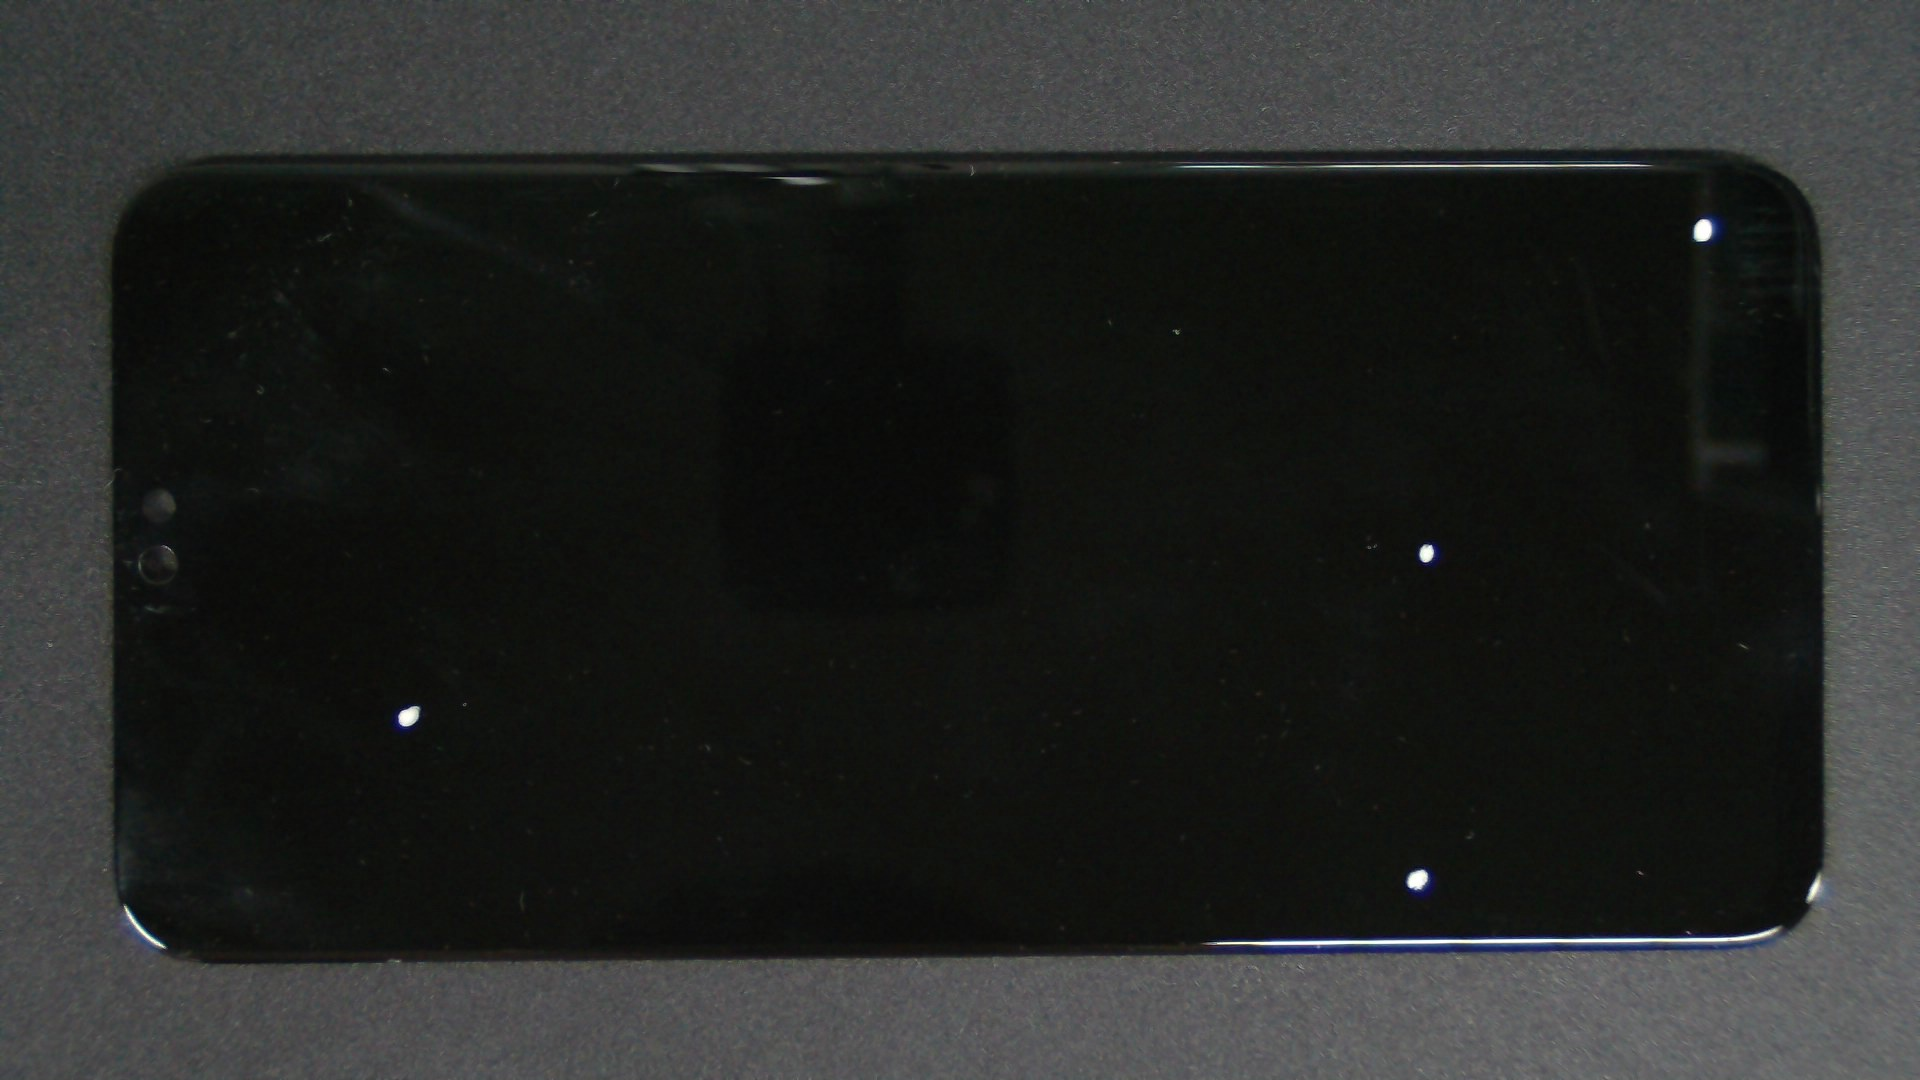oil: (708, 434, 1920, 1080), (711, 272, 1920, 815), (206, 352, 616, 1058), (852, 108, 1920, 326)
